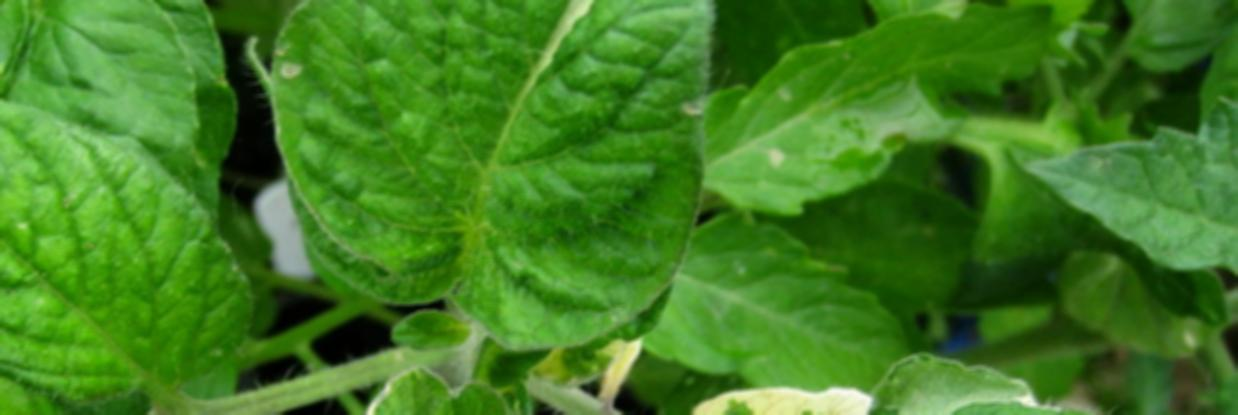Tomato leaf: (262, 0, 723, 362), (0, 90, 243, 381), (1017, 100, 1238, 311)
